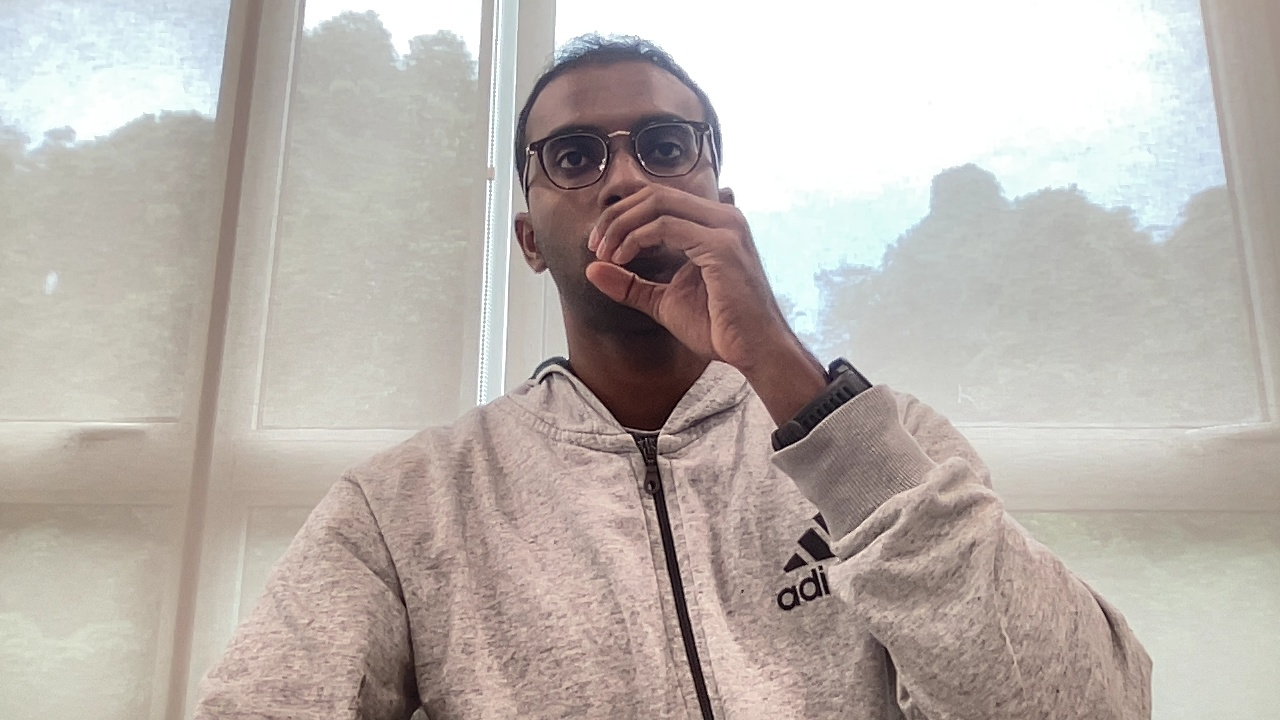drink: (579, 180, 816, 375)
